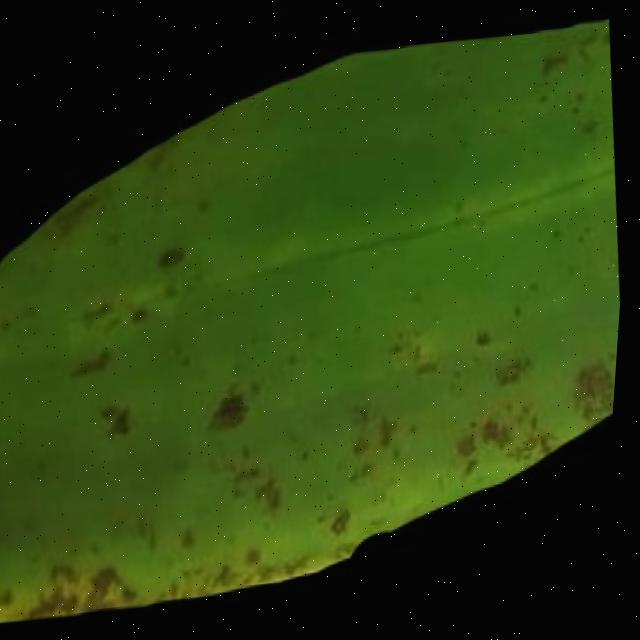mite: (581, 111, 606, 135), (134, 301, 157, 323)
spots: (0, 5, 624, 619)
